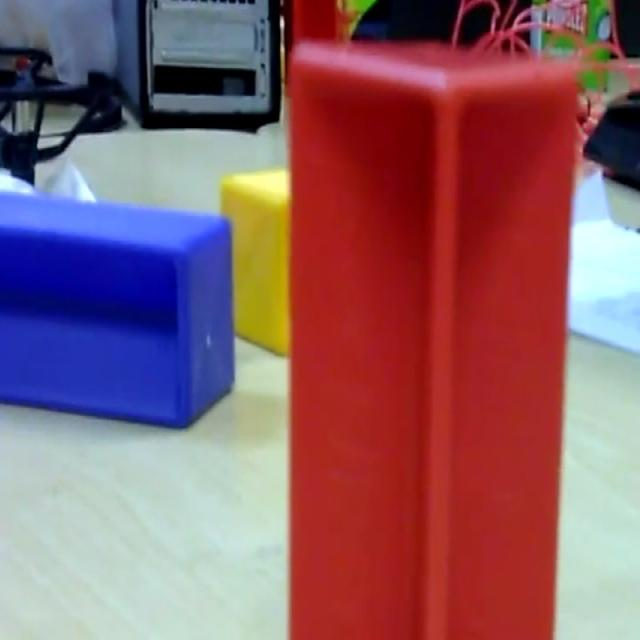blue_block: (0, 183, 236, 429)
red_block: (286, 37, 578, 636)
yellow_block: (219, 165, 291, 358)
